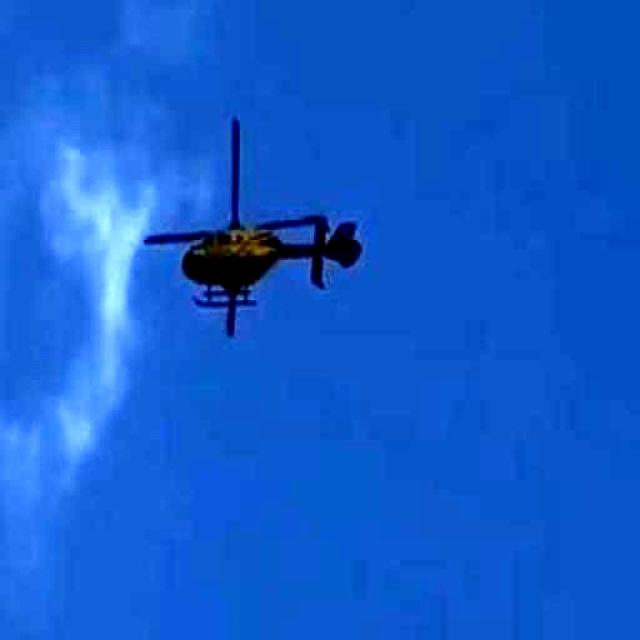drone: (109, 92, 401, 369)
